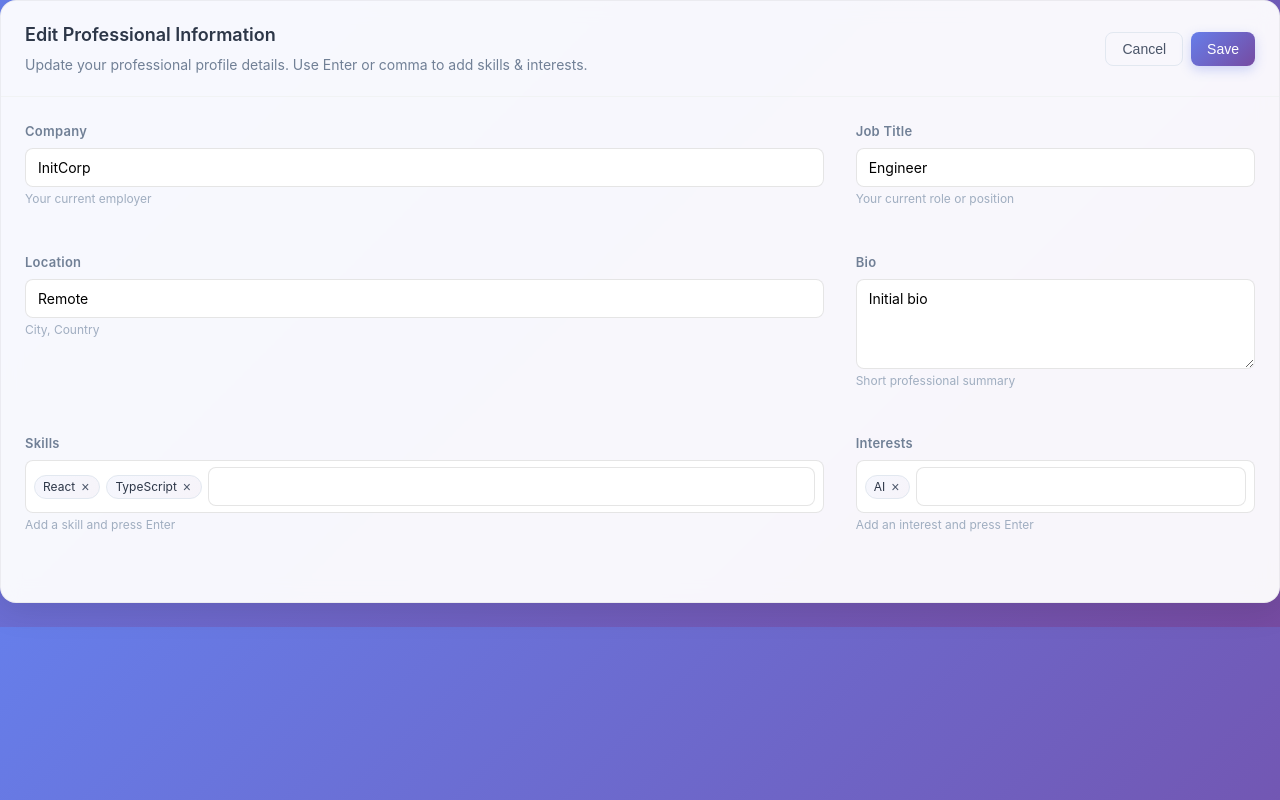
Test: EditProfessionalInfoForm › allows adding and removing skills via TagInput
Add new tag
Step 1. Type "Node.js" into the field labelled "Skills" → (511, 487), box x1=208 y1=467 x2=815 y2=506
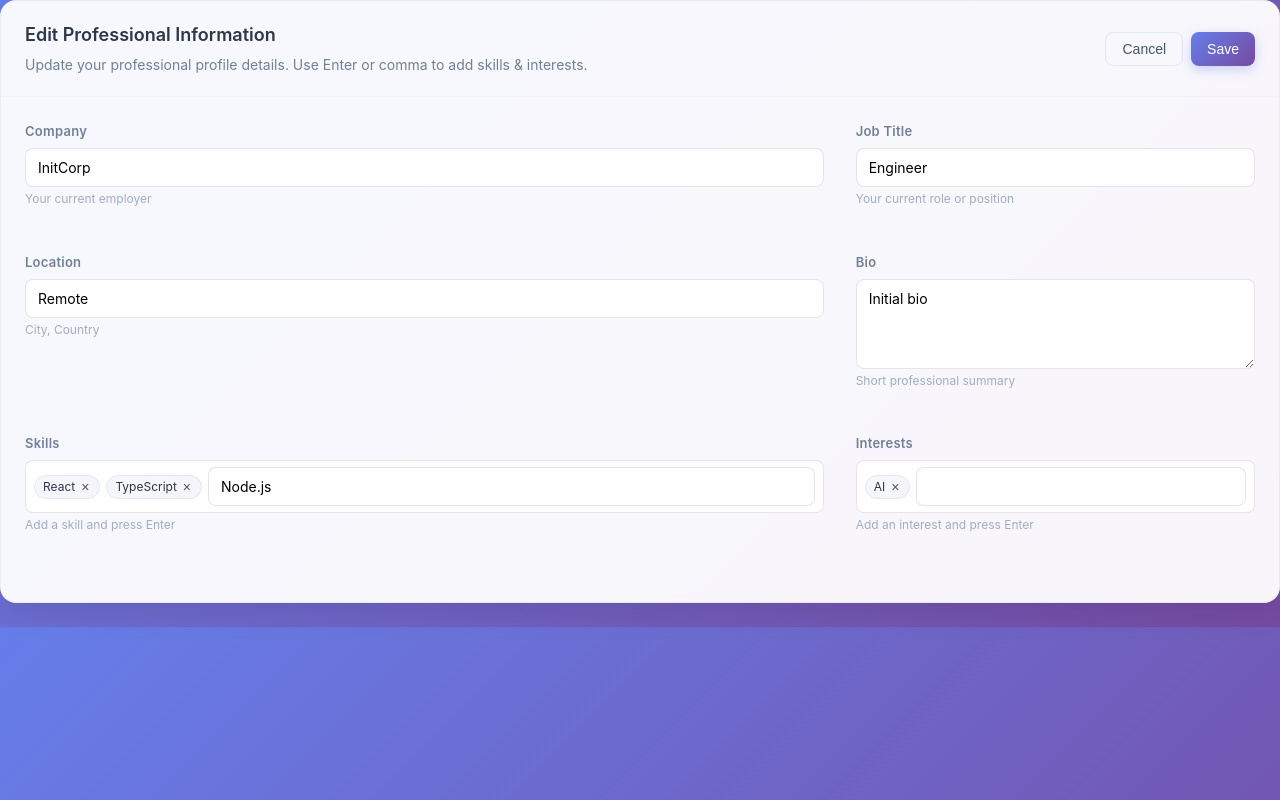
Step 2. Press Enter in the field labelled "Skills", box x1=208 y1=467 x2=815 y2=506
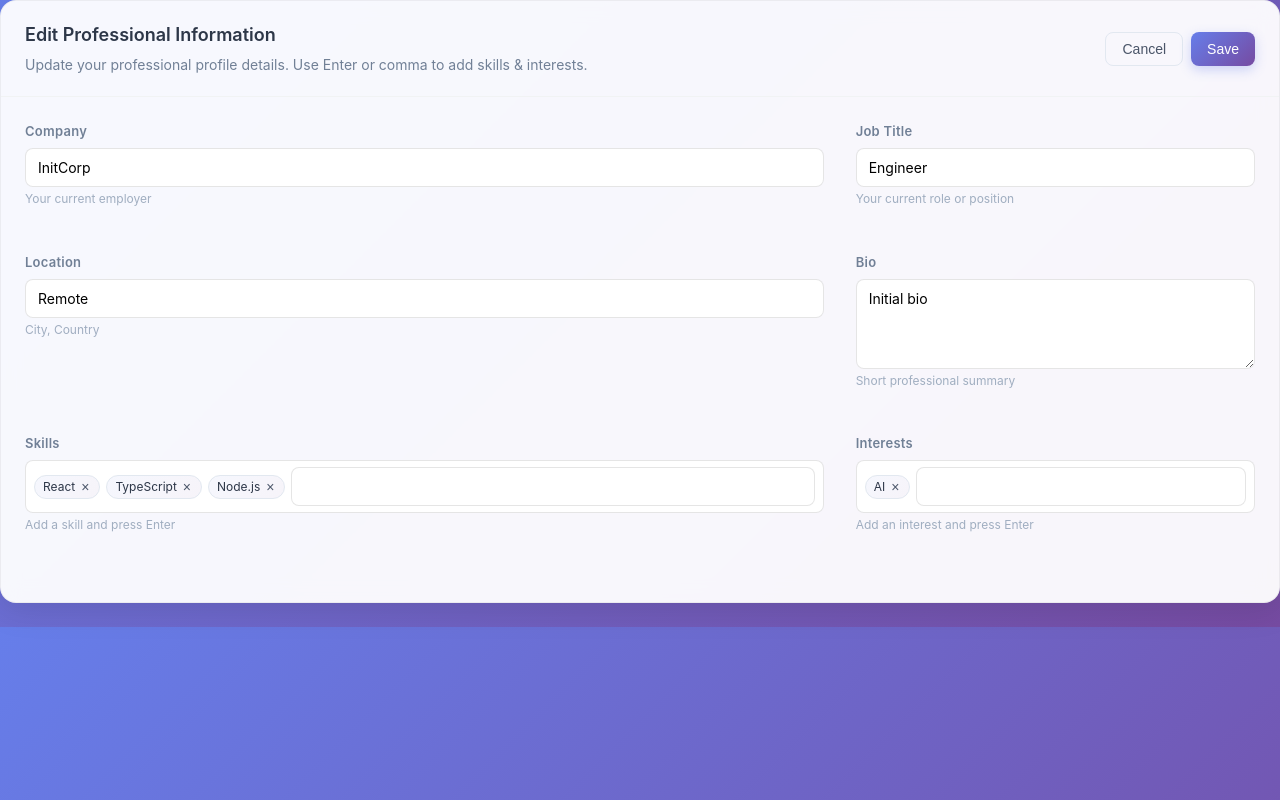
Expected: the list named "Skills" shows "Node.js", x1=217 y1=479 x2=260 y2=494
Remove existing tag (React)
Step 3. Click the button named "Remove tag React" → (85, 487), box x1=79 y1=480 x2=91 y2=494
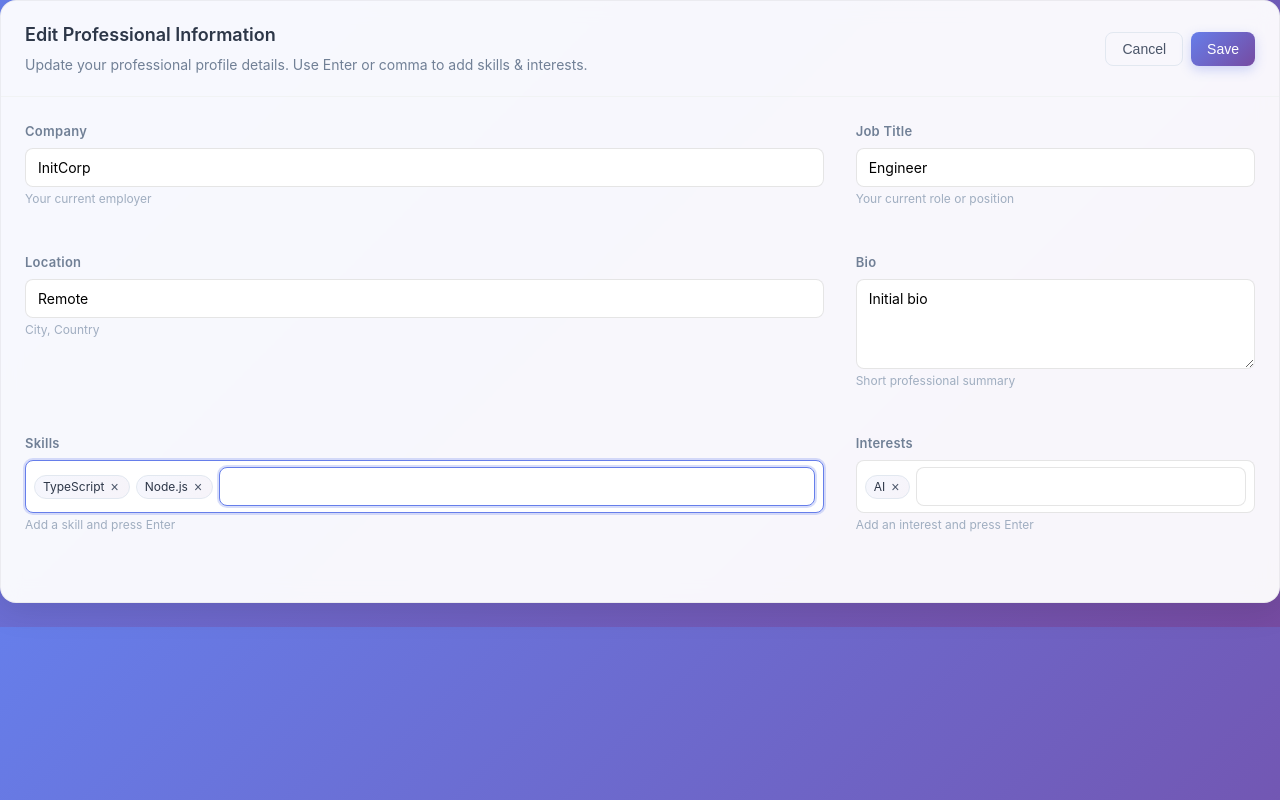
Expected: the list named "Skills" no longer shows "React", x1=34 y1=467 x2=815 y2=506
